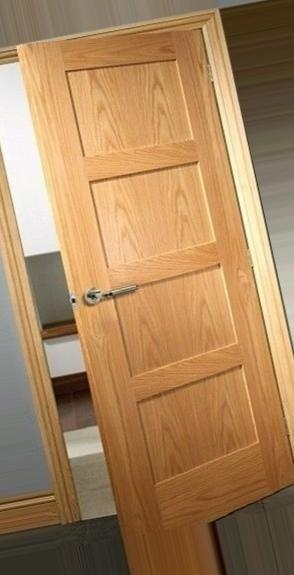door: (16, 16, 294, 547)
